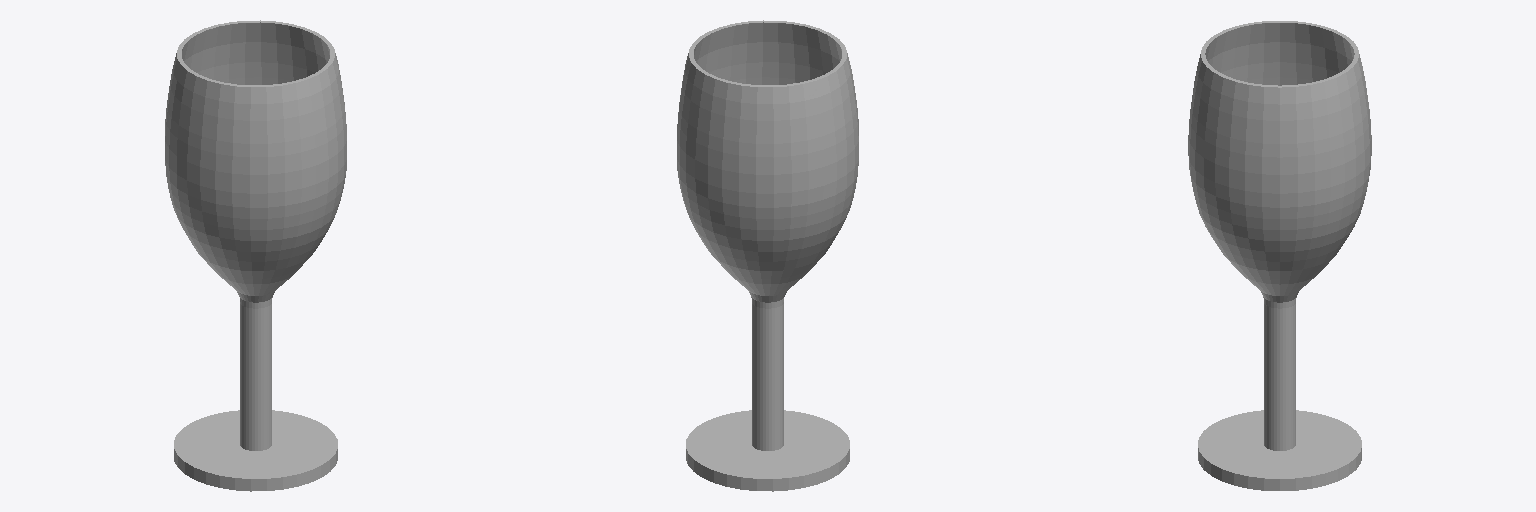
The robot description file, URDF, robot "root":
<robot name="root">
  <link name="link_001">
    <visual>
      <origin xyz="0 0 0" rpy="0 0 0"/>
      <geometry>
        <mesh filename="wineglass.obj" scale="1.5000E+00 1.5000E+00 1.5000E+00"/>
      </geometry>
      <material name="">
        <color rgba="7.50E-01 7.50E-01 7.50E-01 1"/>
      </material>
    </visual>
    <collision>
      <origin xyz="0 0 0" rpy="0 0 0"/>
      <geometry>
        <mesh filename="wineglass.obj" scale="1.5000E+00 1.5000E+00 1.5000E+00"/>
      </geometry>
    </collision>
    <inertial>
      <mass value="0.16"/> <!-- 质量：0.1kg -->
    </inertial>
  </link>
</robot>

--- What the picture shows (computed from the rendered views, not written in the file) ---
The picture shows the robot from 3 angles, left to right: view 1: azimuth 30°, elevation 25°; view 2: azimuth 150°, elevation 25°; view 3: azimuth 270°, elevation 25°; orthographic projection.
Model root with 1 links and 0 joints (none), rooted at link_001, posed all joints at 0.
Links seen in each view (by area): view 1: link_001; view 2: link_001; view 3: link_001.
Link boxes in pixels (x1=…): link_001: x1=165, y1=20, x2=346, y2=491; link_001: x1=677, y1=20, x2=858, y2=491; link_001: x1=1188, y1=21, x2=1371, y2=490.
Size in the robot's own frame: 0.1063 by 0.1063 by 0.258 metres.
Meshes: 1 distinct files referenced, 1 mesh visuals loaded (1 OBJ).
